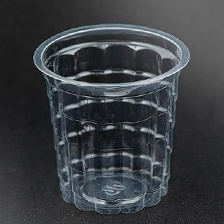glass: (17, 19, 193, 221)
